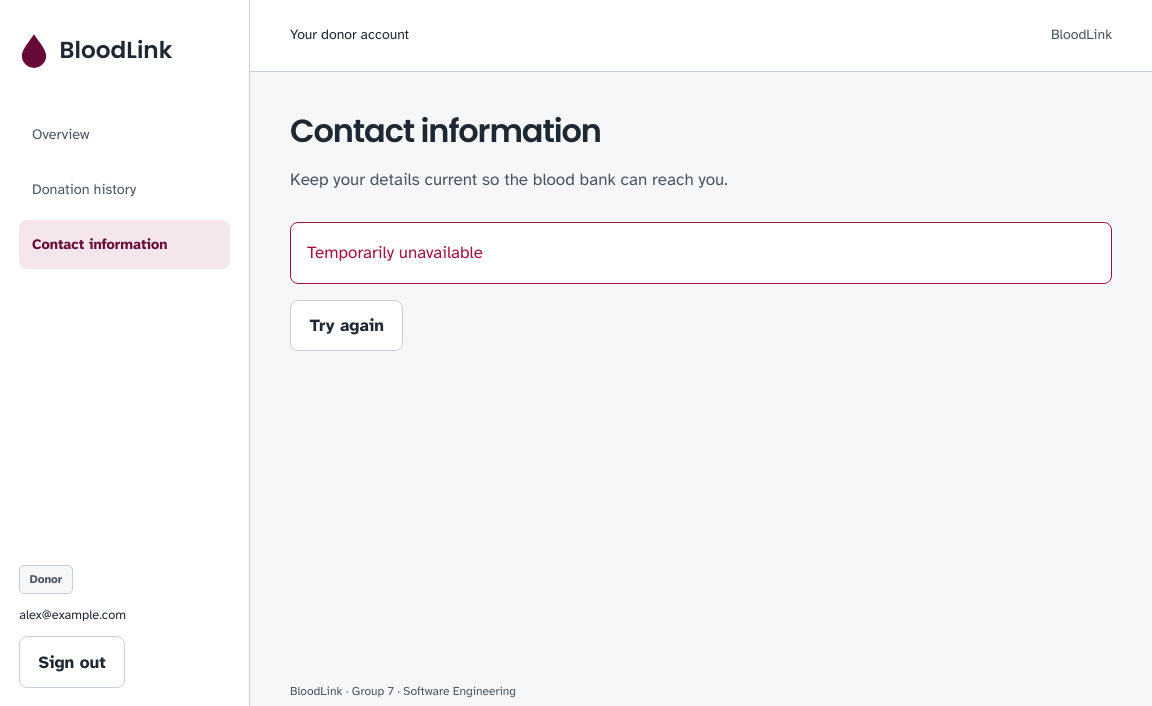
Test: profile load failure can be retried
The width and height of the screenshot is (1152, 706).
Expected: the message reads "Temporarily unavailable", [307, 242, 483, 263]
Click the button "Try again" at coordinates (347, 325), box [290, 300, 403, 351]
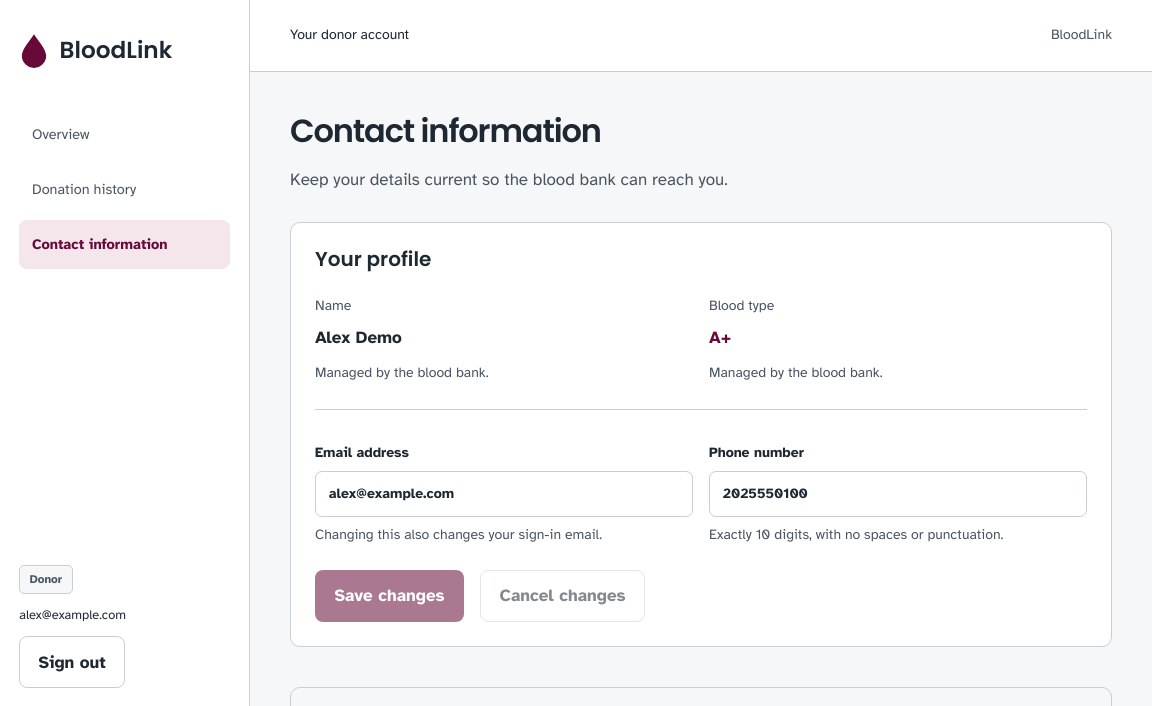
Expected: the field labelled "Phone number" holds "2025550100", [709, 471, 1087, 518]
